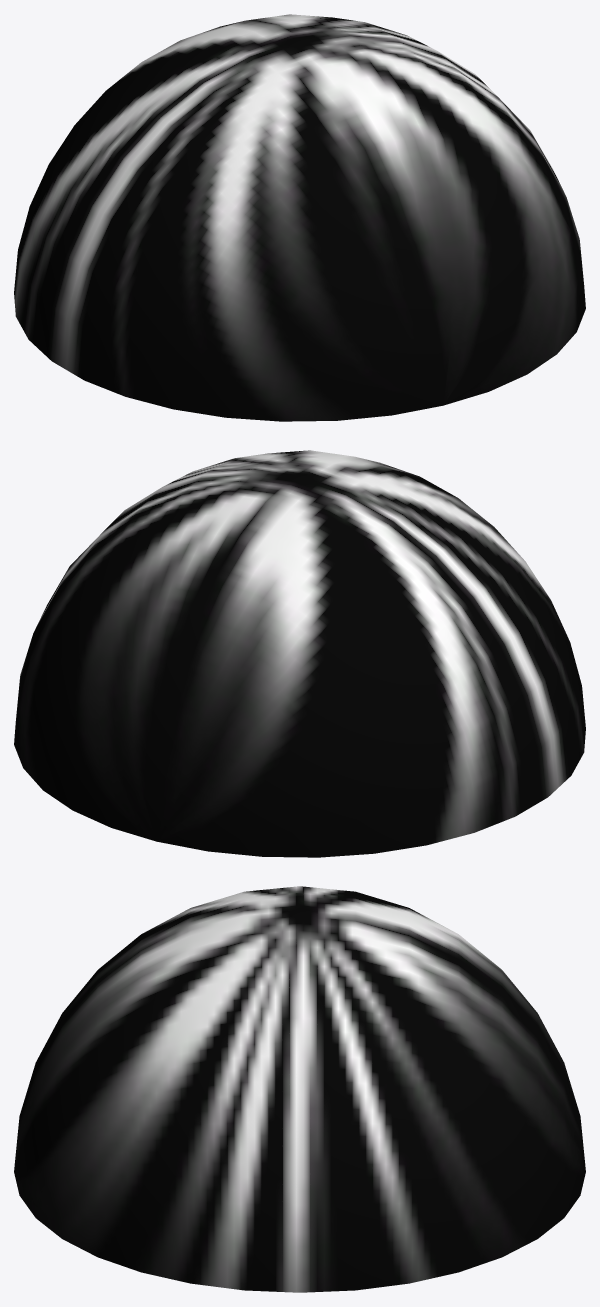
The model's file is banyuan1.FBX.
The picture shows the model from 3 angles, top to bottom: view 1: azimuth 30°, elevation 25°; view 2: azimuth 150°, elevation 25°; view 3: azimuth 270°, elevation 25°; orthographic projection.
Visible parts, largest first — view 1: Sphere001; view 2: Sphere001; view 3: Sphere001.
Boxes of the visible parts, x1,y1,x2,y2 form: Sphere001: (14, 14, 585, 421); Sphere001: (14, 450, 585, 857); Sphere001: (14, 886, 585, 1292).
Bounding box in the file's own units: 90.91 × 45.46 × 90.91.
